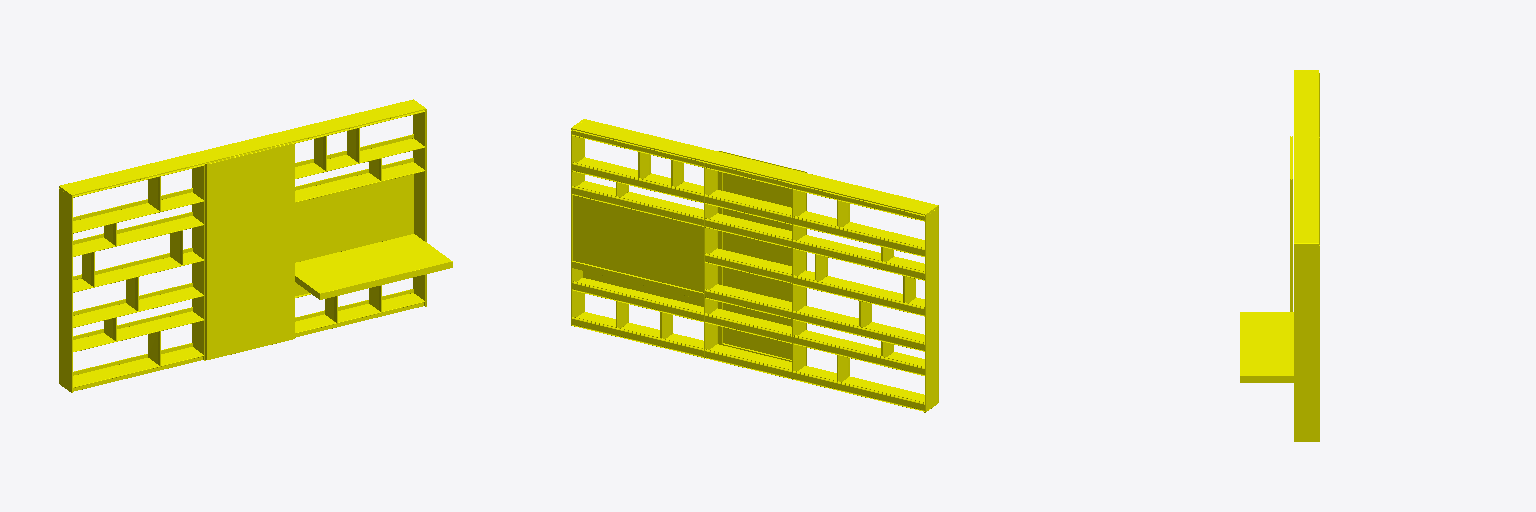
The picture shows the model from 3 angles: view 1: azimuth 30°, elevation 25°; view 2: azimuth 150°, elevation 25°; view 3: azimuth 270°, elevation 25°; orthographic projection.
Parts seen in each view (by area): view 1: bianco_gesso, grigio_fumo; view 2: bianco_gesso, grigio_fumo, sch_bianco_gesso, Telaio_Anta_Vetro; view 3: bianco_gesso, grigio_fumo, Telaio_Anta_Vetro.
Boxes of the visible parts, x1,y1,x2,y2 form: bianco_gesso: [59, 99, 426, 392]; grigio_fumo: [207, 143, 452, 359]; bianco_gesso: [571, 119, 938, 412]; grigio_fumo: [571, 173, 791, 359]; sch_bianco_gesso: [583, 271, 703, 306]; Telaio_Anta_Vetro: [718, 151, 806, 365]; bianco_gesso: [1294, 70, 1319, 441]; grigio_fumo: [1240, 312, 1293, 382]; Telaio_Anta_Vetro: [1290, 136, 1292, 311].
Bounding box in the file's own units: 3.99 × 2.13 × 0.7731.